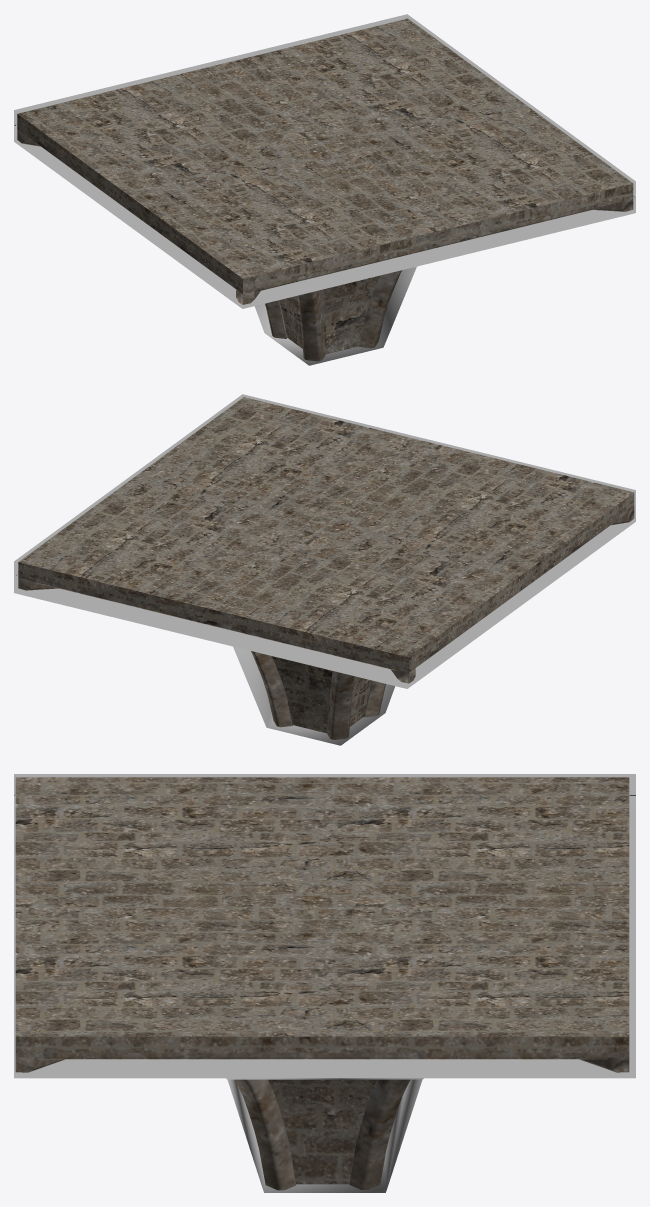
File: SM_Ceiling_01a.gltf
3 views of the same model, one above another, from view 1: azimuth 30°, elevation 25°; view 2: azimuth 150°, elevation 25°; view 3: azimuth 270°, elevation 25° (orthographic). The views are drawn at different scales.
Parts seen in each view (by area): view 1: SM_Ceiling_01a, SM_Ceiling_01a_ConvexHulls; view 2: SM_Ceiling_01a, SM_Ceiling_01a_ConvexHulls; view 3: SM_Ceiling_01a, SM_Ceiling_01a_ConvexHulls.
Boxes of the visible parts, box(x1,y1,x2,y2) form: SM_Ceiling_01a: box(17, 18, 633, 361); SM_Ceiling_01a_ConvexHulls: box(14, 14, 635, 365); SM_Ceiling_01a: box(18, 397, 634, 739); SM_Ceiling_01a_ConvexHulls: box(14, 394, 635, 745); SM_Ceiling_01a: box(15, 777, 629, 1190); SM_Ceiling_01a_ConvexHulls: box(14, 774, 635, 1192).
Bounding box in the file's own units: 14.1 × 6.66 × 14.19.
3 materials, 2 textured.
